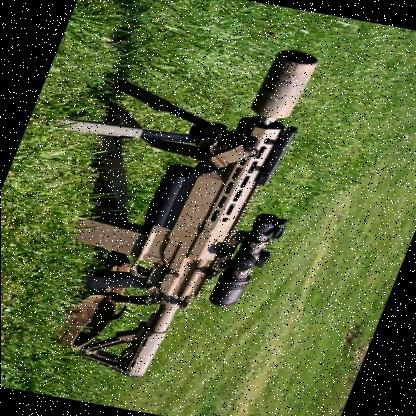rifle: (37, 25, 359, 392)
